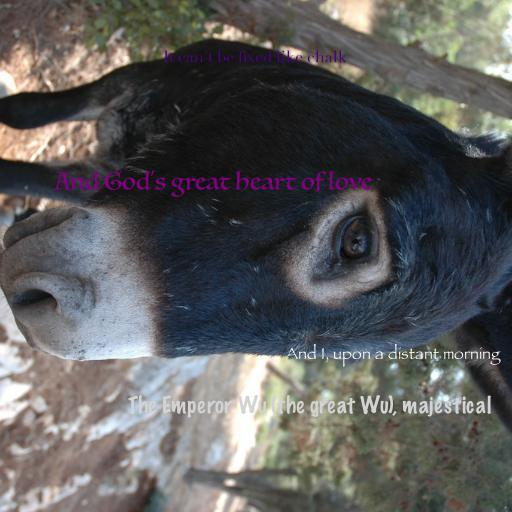Didot: (163, 50, 347, 63)
Luminari: (54, 169, 372, 198)
Marker Felt: (127, 395, 491, 418)
Papyrus: (286, 343, 500, 367)
